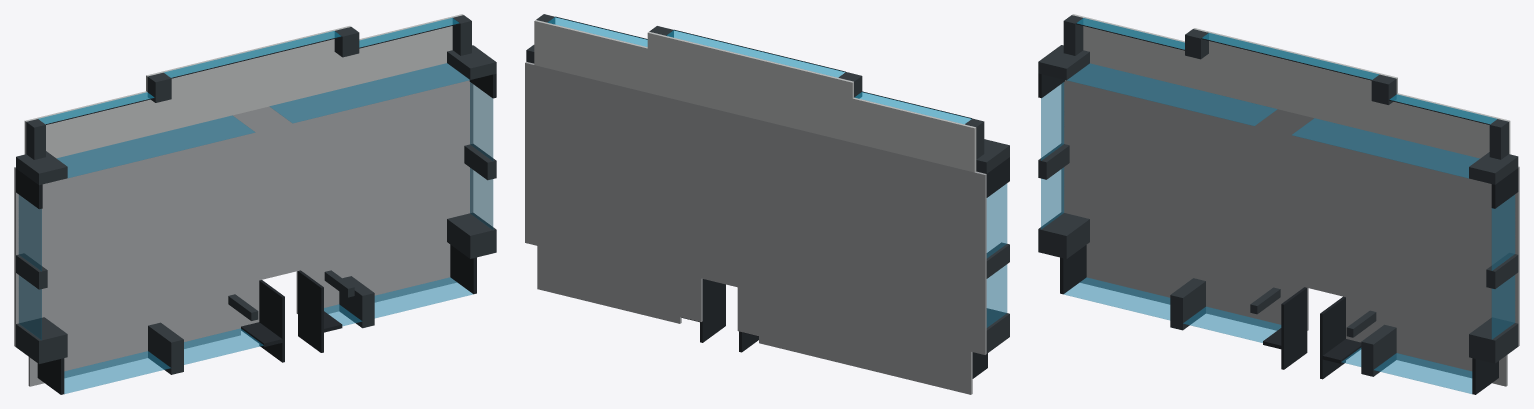
Rendered from villa_3F.obj.
3 renders of one model, left to right at view 1: azimuth 30°, elevation 25°; view 2: azimuth 150°, elevation 25°; view 3: azimuth 330°, elevation 25°, orthographic.
Parts seen in each view (by area): view 1: 3F_Floor_Main, 3F_Terrace_Private, 3F_Glass_001_MasterNorth_West, 3F_Glass_002_MasterNorth_East, 3F_Glass_007_SouthWest_Outer, 3F_Glass_010_SouthEast_Outer, 3F_Column_013_Facade_SouthWestCorner, 3F_Column_014_Facade_SouthEastCorner, 3F_Wall_Stair_002_From2F_East, 3F_Glass_008_SouthWest_Inner, 3F_Glass_005_FacadeEast_North, 3F_Column_007_Facade_SouthWestStep (+23 smaller); view 2: 3F_Floor_Main, 3F_Terrace_Private, 3F_Railing_Terrace_NorthCenter, 3F_Glass_003_FacadeWest_North, 3F_Wall_Stair_002_From2F_East, 3F_Glass_004_FacadeWest_South, 3F_Railing_Terrace_NorthWest, 3F_Column_013_Facade_SouthWestCorner, 3F_Railing_Terrace_NorthEast, 3F_Column_011_Facade_NorthWestCorner, 3F_Column_005_Facade_WestMid, 3F_Wall_Exterior_001_NorthWest_Side; view 3: 3F_Floor_Main, 3F_Terrace_Private, 3F_Glass_001_MasterNorth_West, 3F_Glass_002_MasterNorth_East, 3F_Glass_007_SouthWest_Outer, 3F_Glass_010_SouthEast_Outer, 3F_Column_013_Facade_SouthWestCorner, 3F_Wall_Stair_001_From2F_West, 3F_Glass_008_SouthWest_Inner, 3F_Column_014_Facade_SouthEastCorner, 3F_Glass_005_FacadeEast_North, 3F_Column_007_Facade_SouthWestStep (+22 smaller).
Boxes of the visible parts, box(x1,y1,x2,y2) form: 3F_Floor_Main: box(14, 63, 473, 386); 3F_Terrace_Private: box(24, 14, 463, 158); 3F_Glass_001_MasterNorth_West: box(57, 115, 255, 178); 3F_Glass_002_MasterNorth_East: box(269, 63, 469, 123); 3F_Glass_007_SouthWest_Outer: box(64, 351, 170, 393); 3F_Glass_010_SouthEast_Outer: box(374, 277, 473, 318); 3F_Column_013_Facade_SouthWestCorner: box(16, 317, 67, 363); 3F_Column_014_Facade_SouthEastCorner: box(447, 212, 496, 258); 3F_Wall_Stair_002_From2F_East: box(298, 270, 323, 352); 3F_Glass_008_SouthWest_Inner: box(184, 328, 263, 364); 3F_Glass_005_FacadeEast_North: box(470, 82, 493, 160); 3F_Column_007_Facade_SouthWestStep: box(148, 322, 183, 374); 3F_Floor_Main: box(525, 62, 986, 394); 3F_Terrace_Private: box(534, 20, 976, 172); 3F_Railing_Terrace_NorthCenter: box(666, 30, 845, 77); 3F_Glass_003_FacadeWest_North: box(986, 183, 1007, 257); 3F_Wall_Stair_002_From2F_East: box(700, 279, 725, 342); 3F_Glass_004_FacadeWest_South: box(986, 264, 1007, 327); 3F_Railing_Terrace_NorthWest: box(854, 92, 971, 123); 3F_Column_013_Facade_SouthWestCorner: box(986, 308, 1009, 353); 3F_Railing_Terrace_NorthEast: box(548, 17, 647, 46); 3F_Column_011_Facade_NorthWestCorner: box(976, 139, 1009, 173); 3F_Column_005_Facade_WestMid: box(986, 242, 1009, 278); 3F_Wall_Exterior_001_NorthWest_Side: box(986, 157, 1009, 197); 3F_Floor_Main: box(1061, 63, 1519, 386); 3F_Terrace_Private: box(1072, 14, 1510, 158); 3F_Glass_001_MasterNorth_West: box(1067, 63, 1277, 125); 3F_Glass_002_MasterNorth_East: box(1292, 118, 1479, 178); 3F_Glass_007_SouthWest_Outer: box(1063, 277, 1170, 320); 3F_Glass_010_SouthEast_Outer: box(1374, 353, 1472, 393); 3F_Column_013_Facade_SouthWestCorner: box(1038, 212, 1089, 258); 3F_Wall_Stair_001_From2F_West: box(1281, 287, 1307, 369); 3F_Glass_008_SouthWest_Inner: box(1183, 306, 1281, 342); 3F_Column_014_Facade_SouthEastCorner: box(1469, 317, 1518, 363); 3F_Glass_005_FacadeEast_North: box(1491, 195, 1515, 270); 3F_Column_007_Facade_SouthWestStep: box(1170, 278, 1205, 330).
Size of the model in its own units: 36.42 by 22.57 by 3.4.
